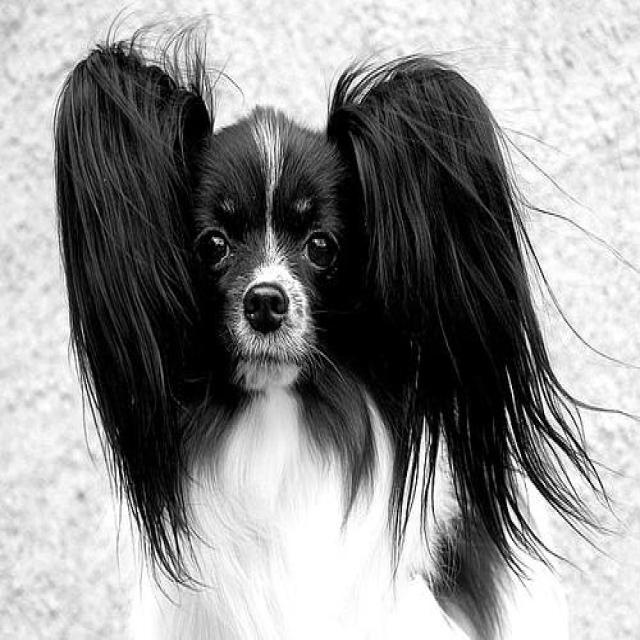papillon: (52, 7, 638, 638)
